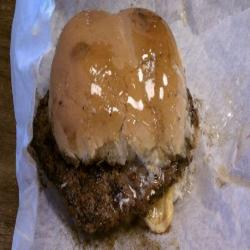burger: (21, 8, 203, 244)
